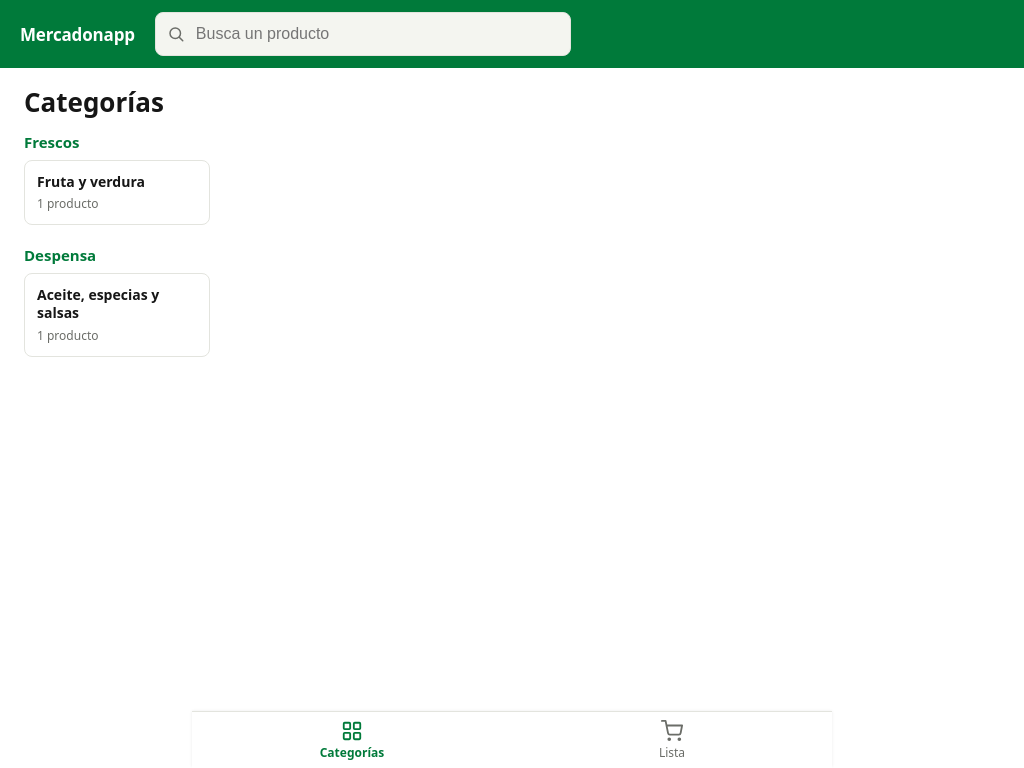
Test: App — searching from anywhere › leaves the search behind when a section is chosen, rather than letting it win
The width and height of the screenshot is (1024, 768).
Expected: the button "Fruta y verdura 1 producto" is shown, [24,160,210,225]
Type "platano" into the search field named "Buscar producto" at (363, 34), box [155,12,571,56]
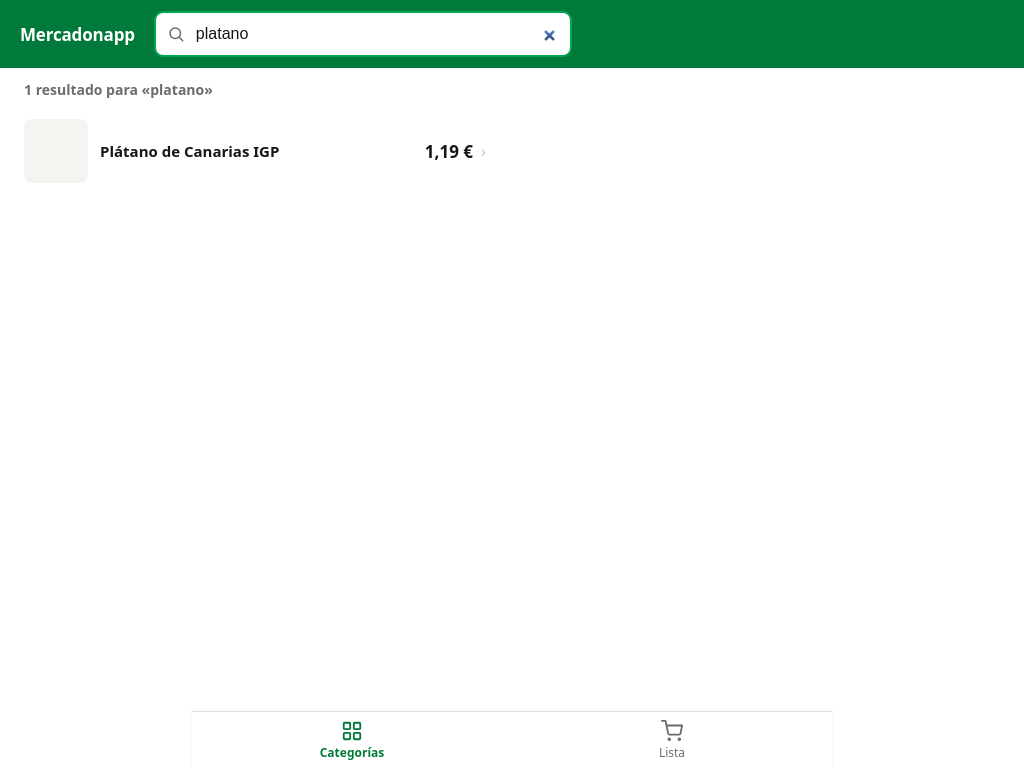
Expected: the heading "1 resultado para «platano»" is shown, [24,80,213,99]
Click the button "Lista" at (672, 740), box [512,712,832,767]
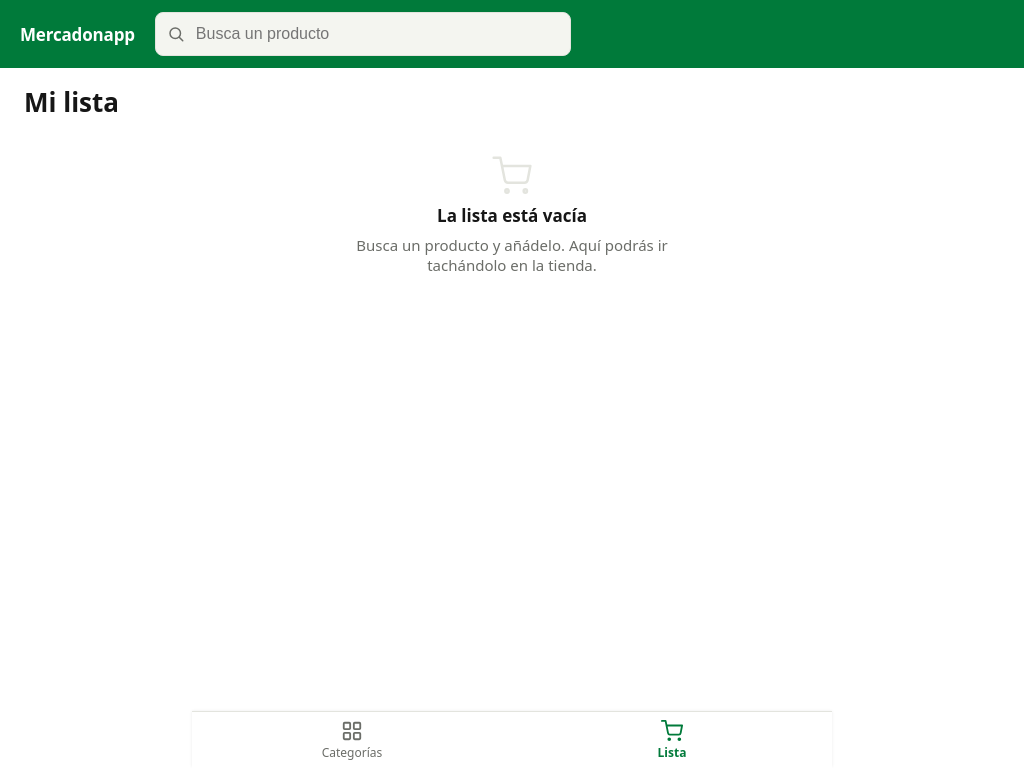
Expected: the heading "Mi lista" is shown, [24,84,119,120]
Expected: the search field named "Buscar producto" is empty, [155,12,571,56]
